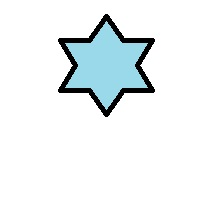star: (58, 14, 155, 117)
